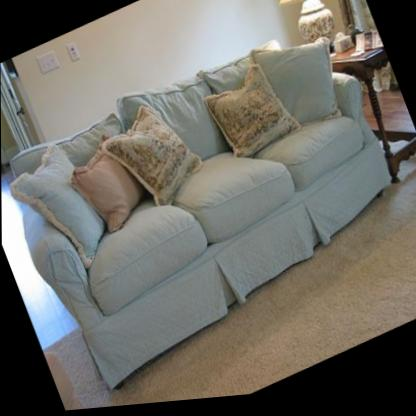Sofa: (0, 5, 416, 411)
Table: (325, 32, 416, 199)
